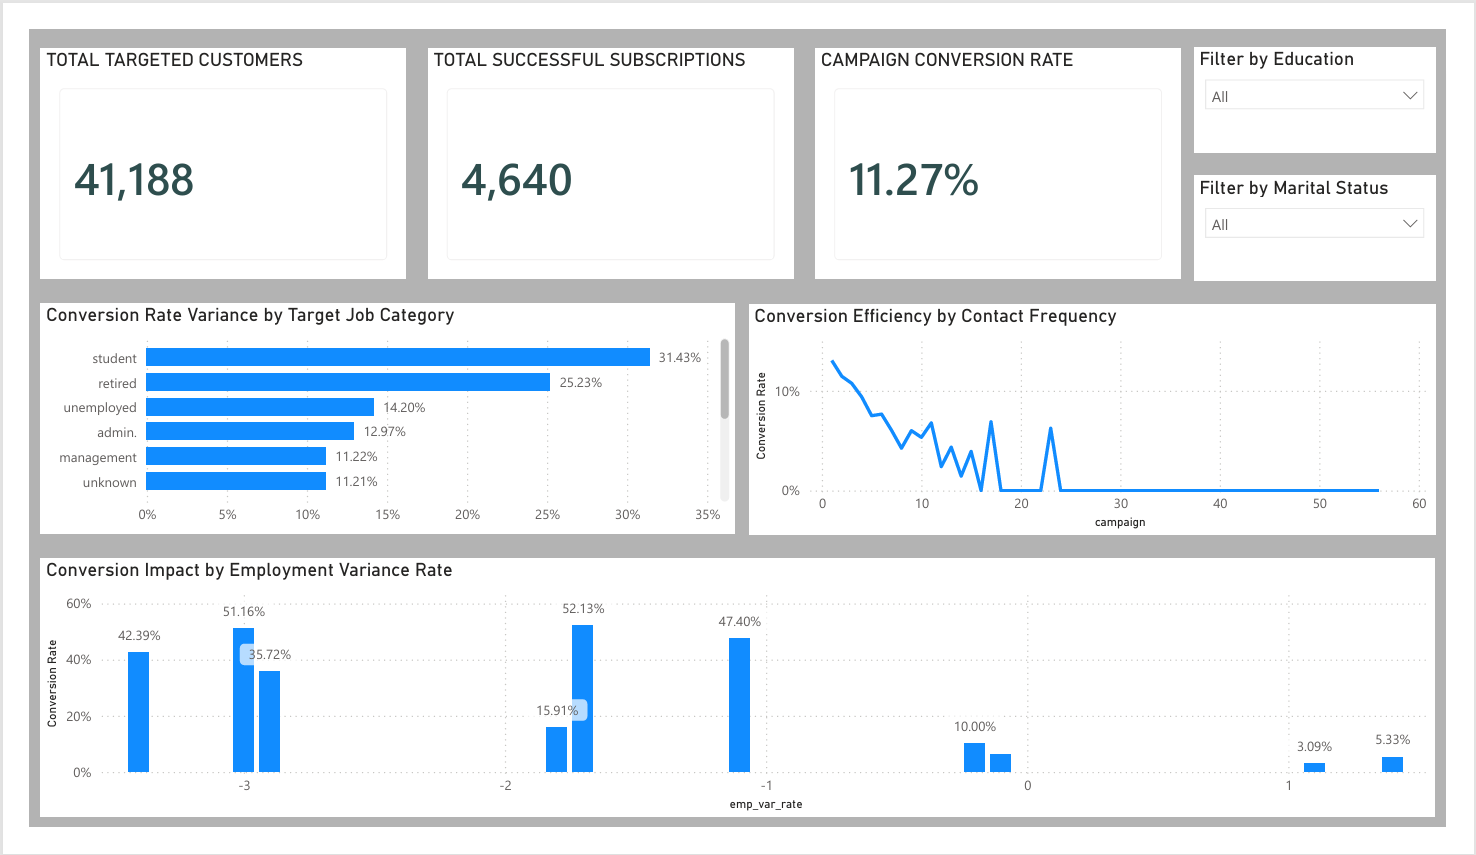

Layout of this report page (visuals, bound fields, positions):
{"tool":"powerbi","page":{"name":"Page 1","canvas":[1280,720],"ordinal":0},"visuals":[{"type":"cardVisual","title":"TOTAL TARGETED CUSTOMERS","fields":{"Data":["_All Measures.Total Customers"]},"box":[10,16.7,330,208.6],"z":0},{"type":"cardVisual","title":"TOTAL SUCCESSFUL SUBSCRIPTIONS","fields":{"Data":["_All Measures.Total Subscribed"]},"box":[360,16.7,330,208.3],"z":1000},{"type":"cardVisual","title":"CAMPAIGN CONVERSION RATE","fields":{"Data":["_All Measures.Conversion Rate"]},"box":[710,16.7,330,208.3],"z":2000},{"type":"clusteredBarChart","title":"Conversion Rate Variance by Target Job Category","fields":{"Category":["public customer_campaign_data.job"],"Y":["_All Measures.Conversion Rate"]},"box":[10,246.9,627.1,208.6],"z":3000},{"type":"lineChart","title":"Conversion Efficiency by Contact Frequency","fields":{"Category":["public customer_campaign_data.campaign"],"Y":["_All Measures.Conversion Rate"]},"box":[650,247.7,620,208.6],"z":4000},{"type":"lineClusteredColumnComboChart","title":"Conversion Impact by Employment Variance Rate","fields":{"Category":["public customer_campaign_data.emp_var_rate"],"Y":["_All Measures.Conversion Rate"]},"box":[10,477.1,1260,232.9],"z":4001},{"type":"slicer","title":"Filter by Education","fields":{"Values":["public customer_campaign_data.education"]},"box":[1051.7,16,218.3,95],"z":4002},{"type":"slicer","title":"Filter by Marital Status","fields":{"Values":["public customer_campaign_data.marital"]},"box":[1051.7,131.9,218.3,95],"z":4003}]}

Visuals, with their boxes in screenshot pixels (x1, y1, x2, y2), scaled from the page's 1280x720 canvas onto the 1476x855 screenshot:
"TOTAL TARGETED CUSTOMERS" cardVisual: bbox(12, 20, 392, 268)
"TOTAL SUCCESSFUL SUBSCRIPTIONS" cardVisual: bbox(415, 20, 796, 267)
"CAMPAIGN CONVERSION RATE" cardVisual: bbox(819, 20, 1199, 267)
"Conversion Rate Variance by Target Job Category" clusteredBarChart: bbox(12, 293, 735, 541)
"Conversion Efficiency by Contact Frequency" lineChart: bbox(750, 294, 1464, 542)
"Conversion Impact by Employment Variance Rate" lineClusteredColumnComboChart: bbox(12, 567, 1464, 843)
"Filter by Education" slicer: bbox(1213, 19, 1464, 132)
"Filter by Marital Status" slicer: bbox(1213, 157, 1464, 269)
